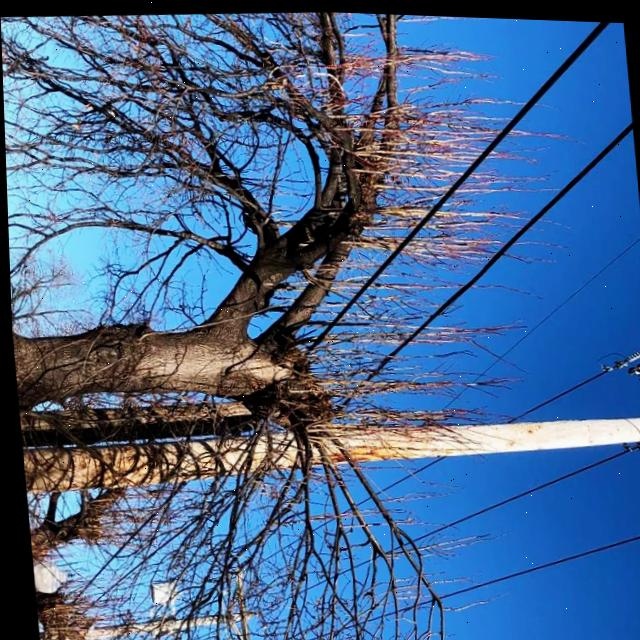obstruction: (226, 213, 410, 421)
poles: (20, 431, 298, 491), (307, 410, 640, 460)
wires: (350, 17, 610, 298), (374, 115, 632, 366), (409, 435, 640, 537), (436, 526, 640, 593), (525, 233, 640, 329), (513, 341, 640, 414)
